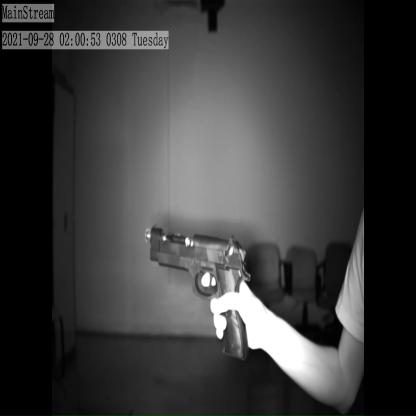weapon: (148, 218, 255, 360)
